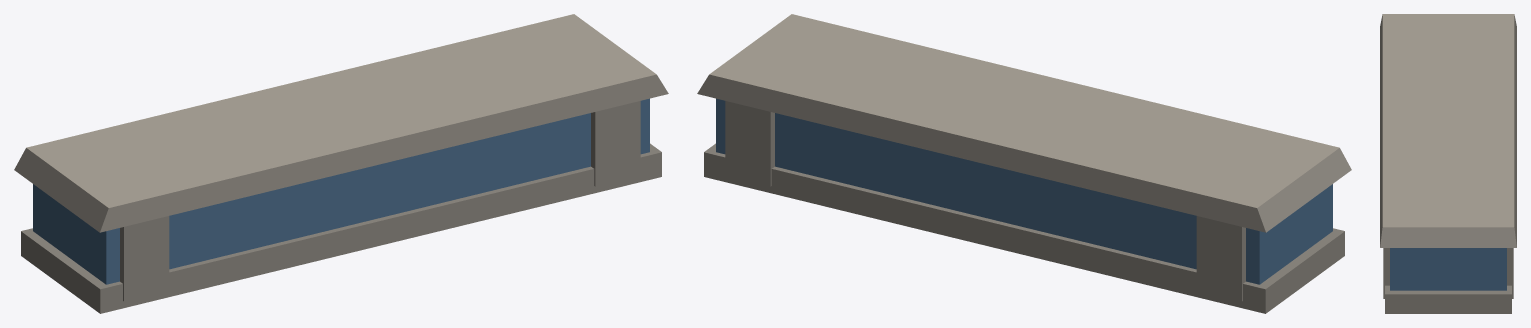
The model's file is high_crown_parapet.obj.
3 renders of one model, left to right at view 1: azimuth 30°, elevation 25°; view 2: azimuth 150°, elevation 25°; view 3: azimuth 270°, elevation 25°, orthographic. The views are drawn at different scales.
Parts seen in each view (by area): view 1: high_crown_parapet; view 2: high_crown_parapet; view 3: high_crown_parapet.
Boxes of the visible parts, box(x1,y1,x2,y2) form: high_crown_parapet: box(14, 14, 668, 313); high_crown_parapet: box(697, 14, 1351, 313); high_crown_parapet: box(1380, 14, 1516, 313).
Size of the model in its own units: 6.28 by 1.11 by 1.64.
